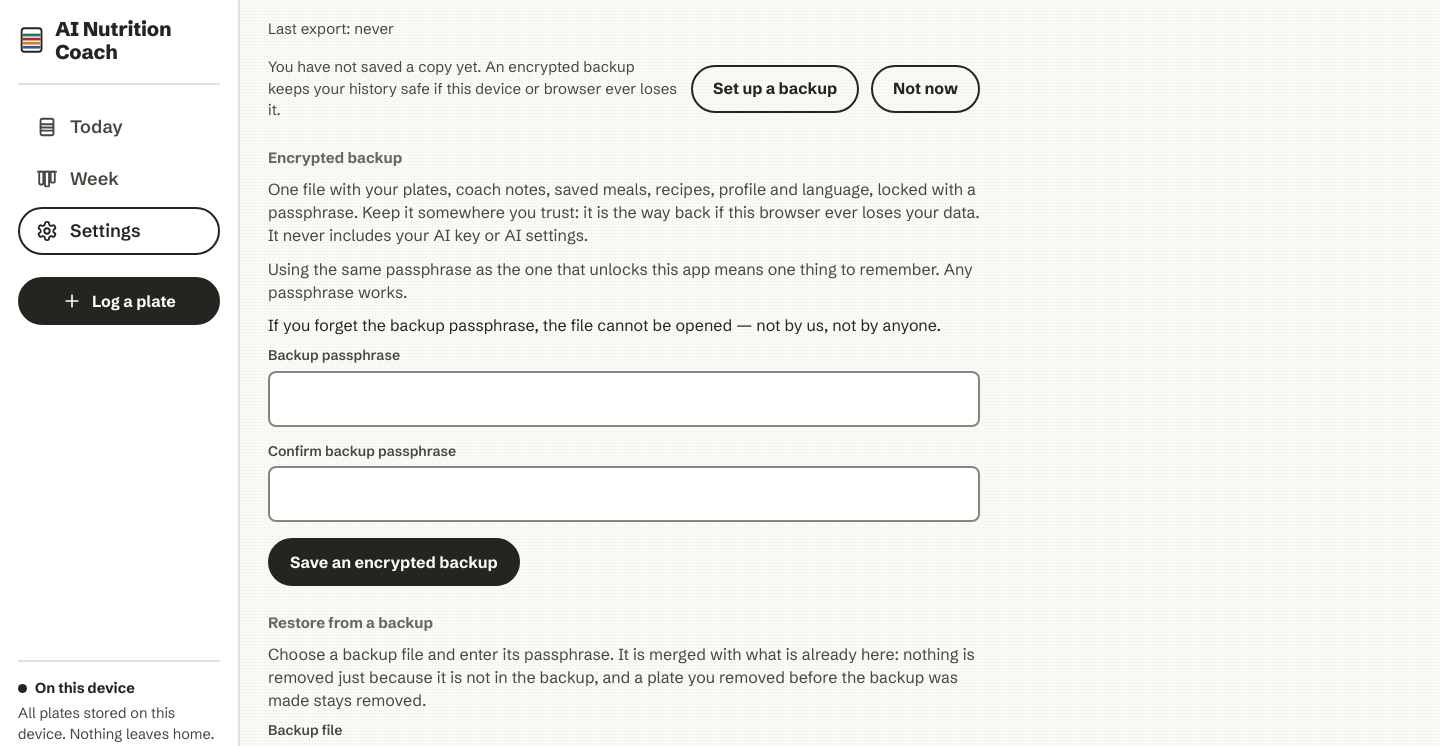
Test: Your data: save an encrypted backup › a failed delivery is one calm line and the button works again
This screenshot has width=1440, height=746.
(page scrolled)
Clear the password field labelled "Backup passphrase" at {"x": 624, "y": 399}, box [270,373,978,425]
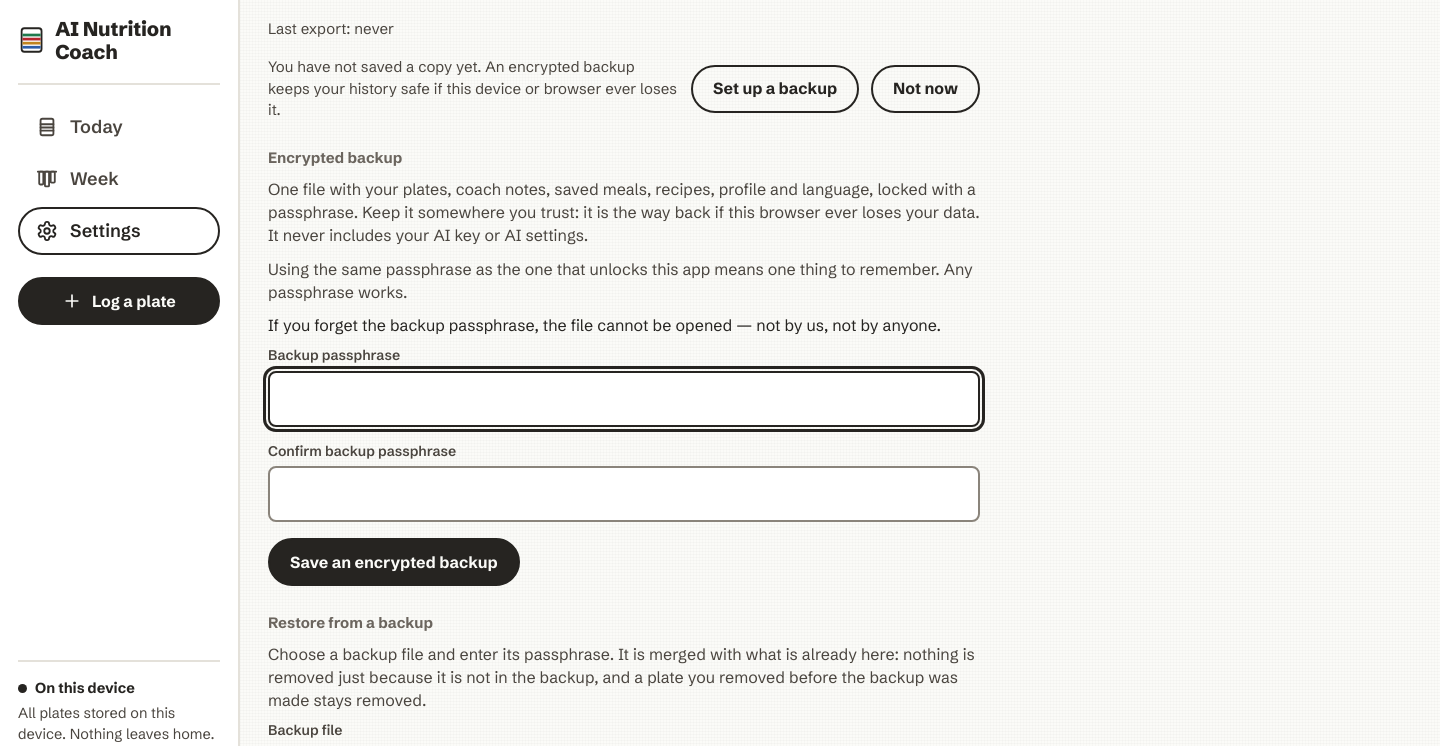
Clear the password field labelled "Confirm backup passphrase" at {"x": 624, "y": 494}, box [270,468,978,520]
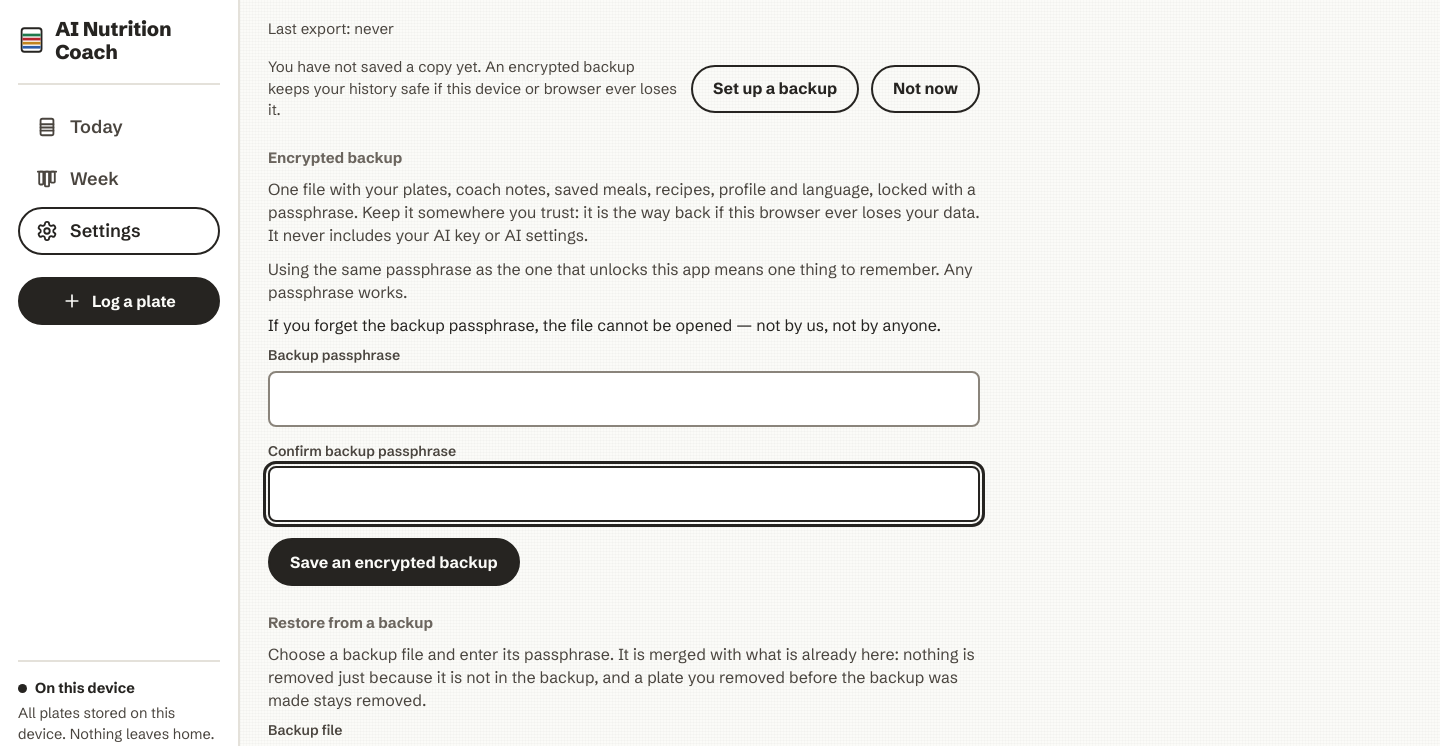
Type "a backup passphrase" into the password field labelled "Backup passphrase" at {"x": 624, "y": 399}, box [270,373,978,425]
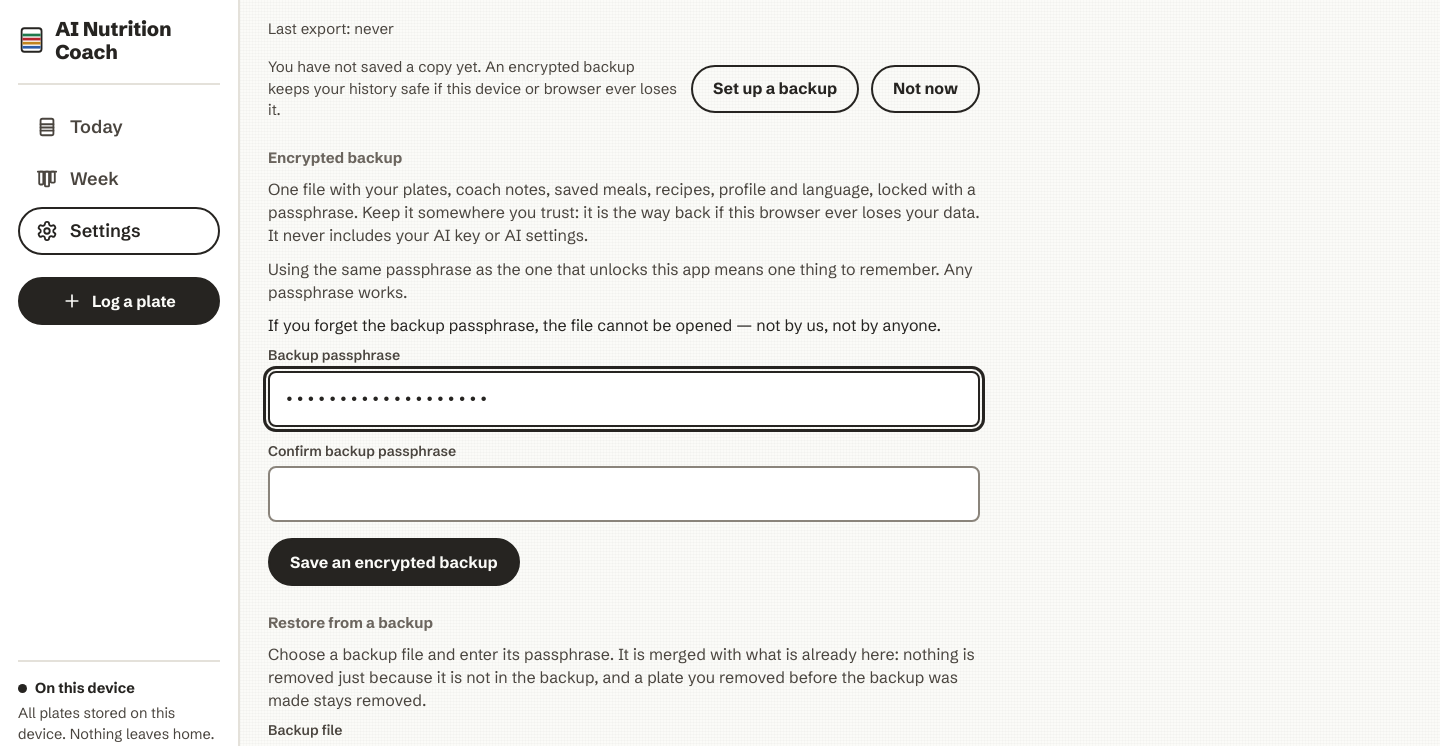
Type "a backup passphrase" into the password field labelled "Confirm backup passphrase" at {"x": 624, "y": 494}, box [270,468,978,520]
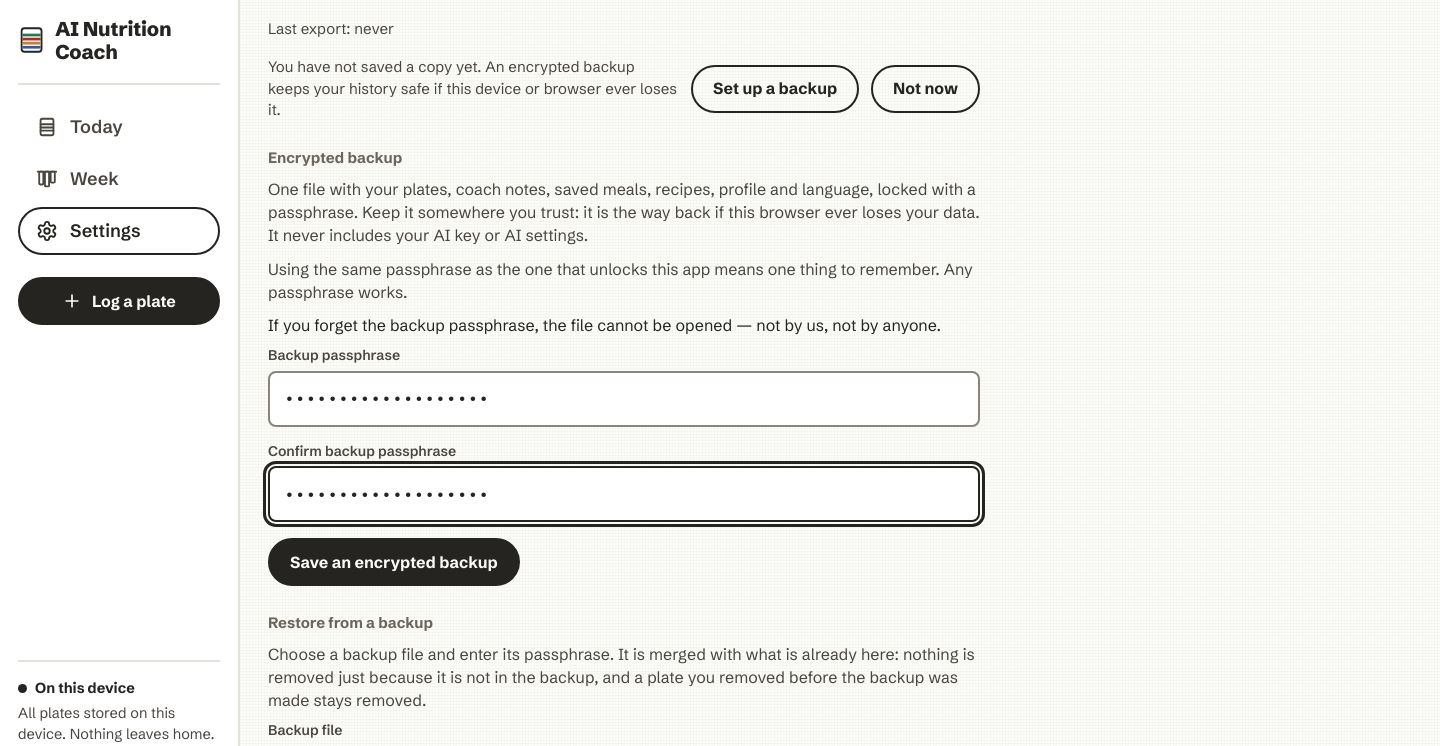
Click the button "Save an encrypted backup" at {"x": 394, "y": 562}, box [268,538,520,586]
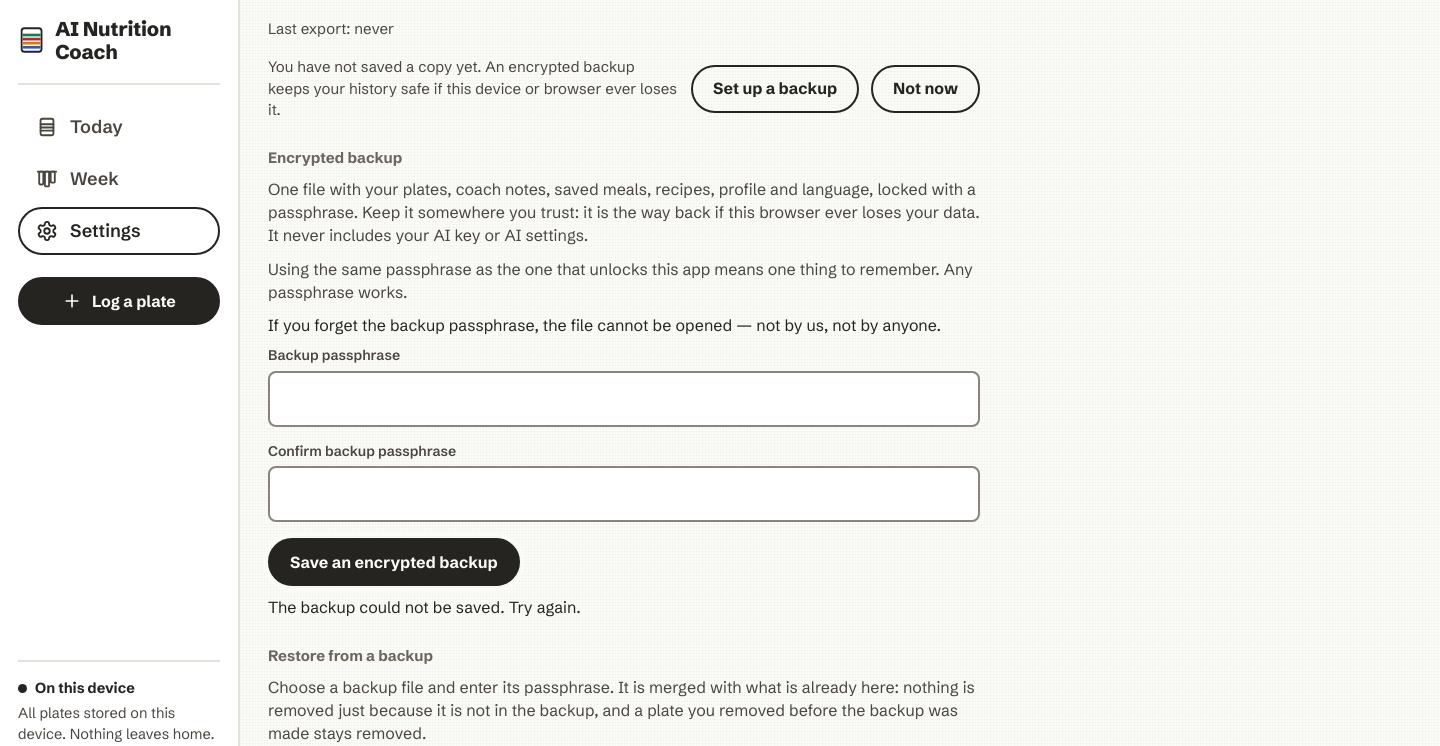
Expected: the text "The backup could not be saved. Try again." is shown, [268,597,581,617]
